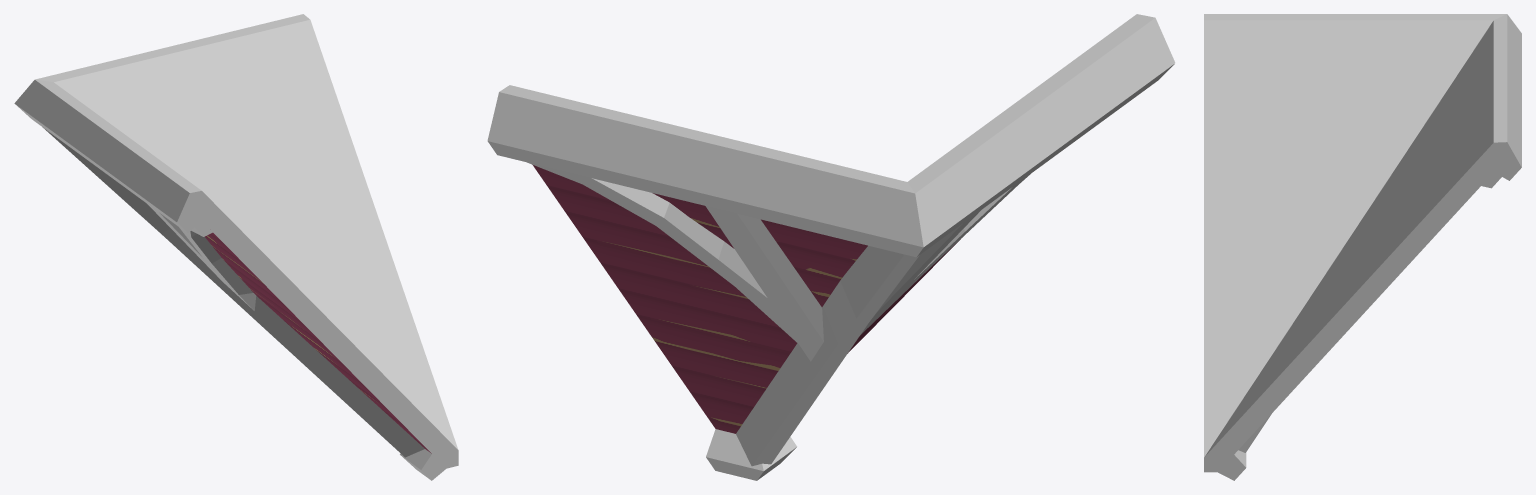
File: SM_Bld_Roof_Straight_Corner_In_01.fbx
The picture shows the model from 3 angles, left to right: view 1: azimuth 30°, elevation 25°; view 2: azimuth 150°, elevation 25°; view 3: azimuth 270°, elevation 25°; orthographic projection. The views are drawn at different scales.
Parts seen in each view (by area): view 1: SM_Bld_Roof_Straight_Corner_In_01; view 2: SM_Bld_Roof_Straight_Corner_In_01; view 3: SM_Bld_Roof_Straight_Corner_In_01.
Boxes of the visible parts, bbox=[...] form: SM_Bld_Roof_Straight_Corner_In_01: bbox=[14, 14, 458, 480]; SM_Bld_Roof_Straight_Corner_In_01: bbox=[487, 14, 1175, 480]; SM_Bld_Roof_Straight_Corner_In_01: bbox=[1204, 14, 1521, 480].
Bounding box in the file's own units: 262 × 308 × 262.
